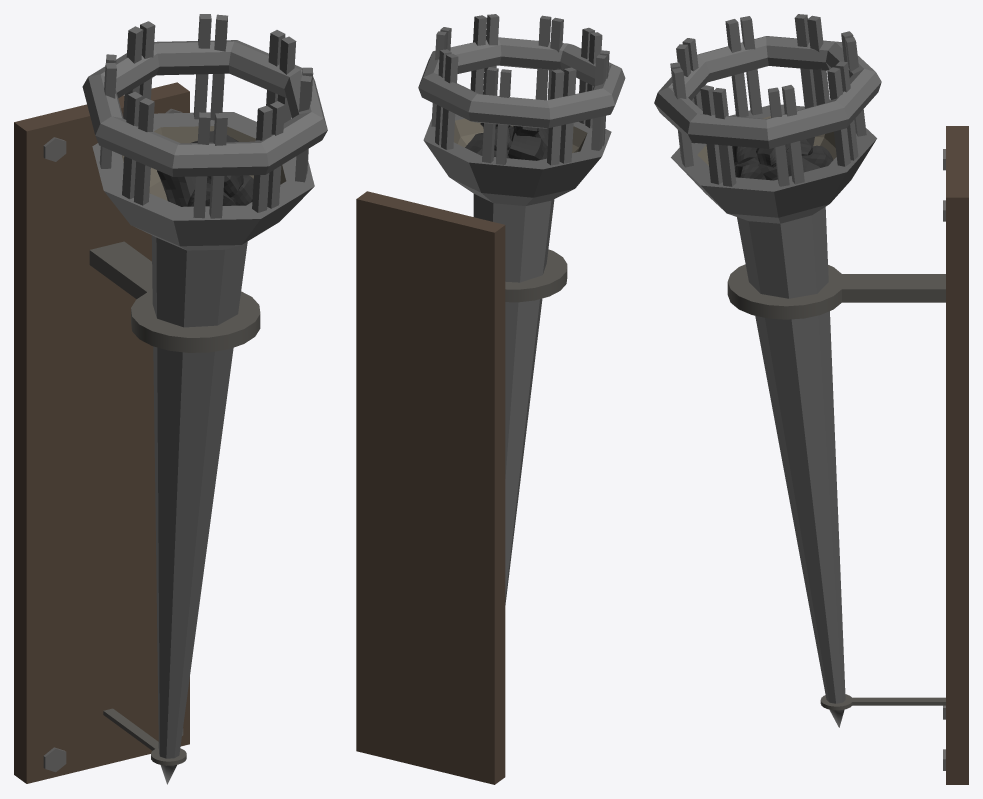
The model's file is Fakla (ljuskälla).fbx.
3 views of the same model, side by side, from view 1: azimuth 30°, elevation 25°; view 2: azimuth 150°, elevation 25°; view 3: azimuth 270°, elevation 25° (orthographic). The views are drawn at different scales.
Visible parts, largest first — view 1: pPlatonic10; view 2: pPlatonic10; view 3: pPlatonic10.
Part boxes in pixels (x1,y1,x2,y2): pPlatonic10: (14, 14, 327, 784); pPlatonic10: (356, 14, 625, 784); pPlatonic10: (654, 14, 968, 784).
Size of the model in its own units: 1.22 by 4.15 by 1.68.
